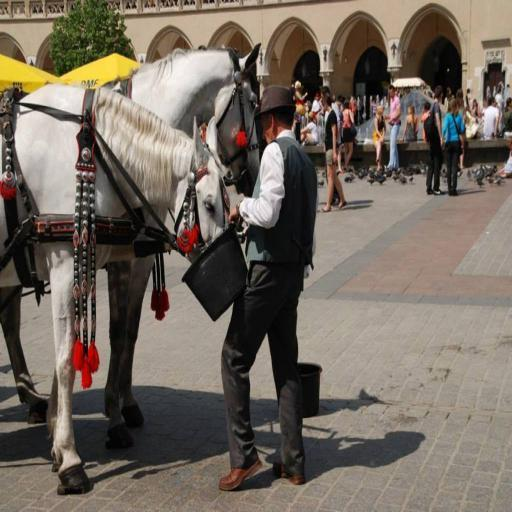horse: (0, 40, 263, 452), (0, 76, 228, 494)
